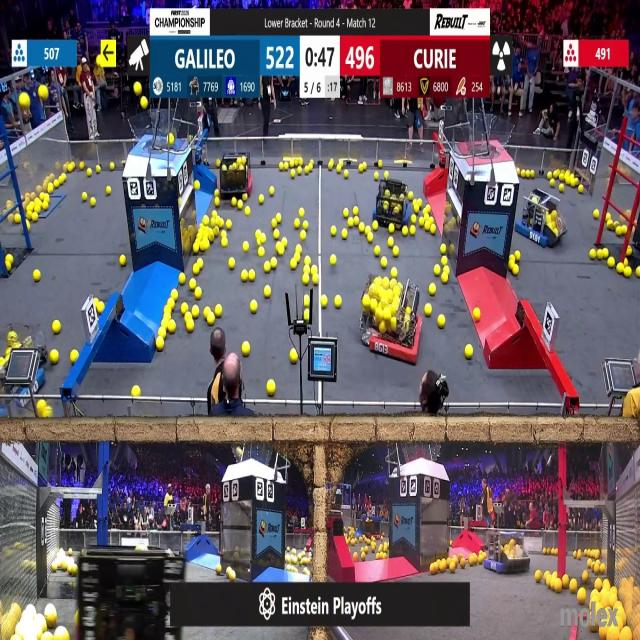ball_airborne: (38, 86, 48, 100), (21, 94, 30, 109), (134, 84, 142, 97), (140, 97, 148, 110), (237, 448, 243, 458), (169, 136, 174, 146)
ball_ground: (44, 605, 56, 627), (56, 629, 70, 640), (576, 589, 585, 605), (49, 350, 58, 364), (268, 381, 276, 396), (464, 345, 472, 359), (54, 320, 62, 334), (570, 580, 578, 594), (242, 343, 250, 356), (70, 350, 78, 363), (554, 581, 562, 594), (41, 409, 50, 420), (472, 308, 479, 322), (214, 306, 222, 318), (424, 306, 432, 318), (534, 570, 542, 582), (446, 562, 454, 574), (290, 350, 297, 363), (158, 339, 165, 352), (226, 568, 233, 581), (442, 274, 450, 285), (250, 302, 257, 314), (193, 287, 200, 299), (186, 320, 193, 332), (439, 316, 446, 328), (191, 307, 198, 319), (513, 265, 520, 277), (599, 628, 606, 640), (595, 577, 602, 589), (362, 295, 369, 307), (544, 572, 550, 586), (168, 322, 176, 332), (133, 386, 141, 396), (37, 399, 45, 409), (216, 218, 224, 228), (70, 566, 78, 576), (228, 259, 234, 272), (34, 271, 41, 282), (248, 271, 255, 282), (434, 266, 441, 277), (602, 248, 609, 259), (188, 279, 195, 290), (98, 303, 105, 314), (202, 241, 209, 252), (430, 563, 437, 574), (119, 254, 125, 266), (179, 274, 185, 286), (336, 295, 342, 307), (305, 310, 311, 322), (321, 295, 327, 307), (305, 295, 311, 307), (590, 248, 596, 260), (563, 574, 569, 586), (243, 242, 250, 252), (401, 225, 408, 235), (312, 276, 319, 286), (625, 268, 632, 278), (208, 315, 215, 325), (366, 234, 373, 244), (277, 245, 284, 255), (160, 327, 167, 337), (181, 304, 188, 314), (381, 257, 388, 267), (211, 216, 218, 226), (5, 254, 12, 264), (266, 286, 272, 297), (242, 271, 248, 282), (442, 244, 448, 255), (375, 246, 381, 257), (607, 257, 613, 268), (304, 275, 310, 286), (516, 250, 522, 261), (192, 243, 198, 254), (311, 266, 318, 275), (220, 239, 227, 248), (269, 186, 276, 195), (617, 226, 624, 235), (330, 254, 336, 264), (274, 231, 280, 241), (290, 261, 296, 271), (392, 247, 398, 257), (388, 238, 394, 248), (348, 217, 354, 227), (172, 289, 178, 299), (371, 220, 377, 230), (358, 222, 364, 232), (258, 193, 264, 203), (266, 264, 272, 274), (442, 255, 448, 265), (342, 228, 348, 238), (192, 266, 198, 276), (391, 269, 397, 279), (303, 220, 309, 230), (225, 219, 231, 229), (429, 284, 435, 294), (430, 224, 436, 234), (272, 258, 278, 268), (419, 216, 425, 226), (169, 297, 175, 307), (60, 174, 66, 184), (272, 217, 278, 227), (47, 183, 53, 193), (204, 308, 210, 318), (5, 263, 11, 273), (570, 177, 576, 187), (388, 224, 395, 232), (36, 632, 43, 640), (219, 230, 226, 238), (238, 201, 245, 209), (165, 306, 172, 314), (507, 264, 514, 272), (584, 570, 589, 581), (258, 247, 264, 256), (81, 191, 87, 200), (299, 232, 305, 241), (298, 208, 304, 217), (412, 215, 418, 224), (293, 219, 299, 228), (290, 170, 296, 179), (618, 266, 624, 275), (424, 222, 430, 231), (42, 202, 48, 211), (358, 165, 364, 174), (559, 174, 565, 183), (92, 198, 97, 208), (330, 225, 335, 235), (411, 225, 416, 235), (194, 180, 199, 190), (277, 213, 282, 223), (69, 162, 74, 172), (106, 186, 112, 194), (594, 210, 600, 218), (305, 256, 311, 264), (214, 200, 220, 208), (244, 207, 250, 215), (444, 267, 450, 275), (88, 169, 94, 177), (256, 232, 262, 240), (110, 164, 116, 172), (204, 216, 210, 224), (304, 568, 310, 576), (198, 260, 204, 268), (214, 188, 220, 196), (546, 172, 552, 180), (424, 206, 430, 214), (414, 206, 420, 214), (279, 164, 285, 172), (293, 254, 299, 262), (68, 550, 74, 558), (409, 191, 415, 199), (460, 560, 466, 568), (209, 234, 215, 242), (353, 207, 358, 216), (216, 565, 221, 574), (233, 199, 238, 208), (33, 213, 38, 222), (14, 214, 19, 223), (328, 163, 333, 172), (636, 268, 640, 279), (162, 320, 168, 327), (627, 248, 633, 255), (304, 267, 310, 274), (375, 173, 381, 180), (382, 554, 388, 561), (136, 544, 142, 551), (295, 245, 300, 253), (551, 182, 556, 190), (530, 170, 535, 178), (79, 163, 84, 171), (624, 258, 629, 266), (520, 170, 525, 178), (212, 210, 217, 218), (296, 168, 301, 176), (306, 167, 311, 175), (588, 560, 593, 568), (289, 162, 294, 170), (344, 209, 348, 218), (560, 183, 564, 192), (28, 220, 32, 229), (282, 240, 287, 247), (578, 184, 582, 192), (344, 171, 348, 179), (385, 172, 389, 180), (354, 554, 358, 562), (292, 567, 296, 575), (215, 162, 220, 168), (244, 193, 248, 200), (97, 167, 101, 174), (338, 168, 342, 175), (361, 554, 365, 561), (554, 570, 558, 577), (377, 554, 381, 560), (379, 162, 383, 168)
goal: (128, 114, 188, 152), (460, 118, 516, 158)
robot_blue: (0, 321, 48, 411), (516, 188, 564, 248), (484, 532, 528, 575), (375, 177, 410, 228)
robot_red: (360, 276, 425, 366), (219, 154, 252, 198)
